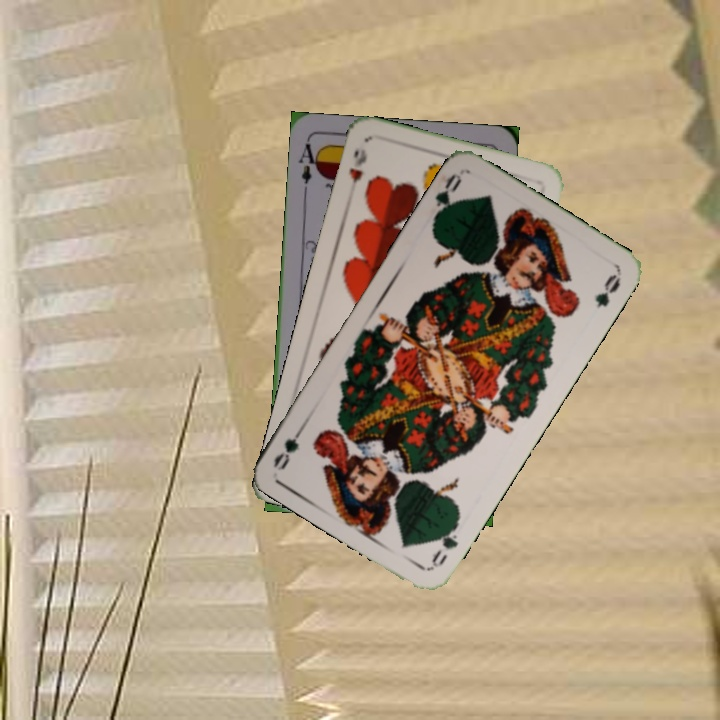EA: (295, 137, 323, 197)
GO: (429, 170, 464, 226), (427, 515, 462, 570)
H9: (345, 145, 370, 197)
